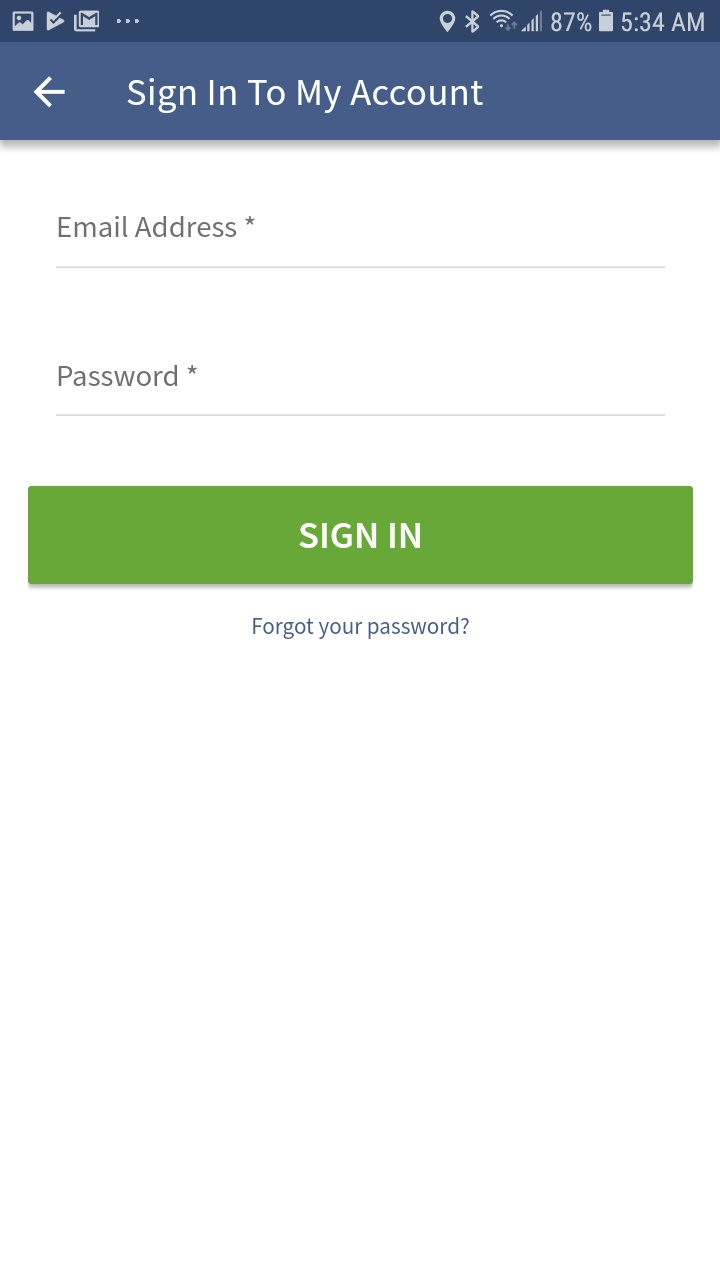EditText: (56, 215, 666, 269), (56, 365, 665, 417)
Icon: (33, 76, 66, 109)
Text: (128, 78, 484, 115), (253, 617, 470, 640), (59, 215, 255, 238), (59, 364, 198, 387)
TextButton: (28, 486, 693, 585)
UpperTaskBar: (1, 1, 720, 43)
